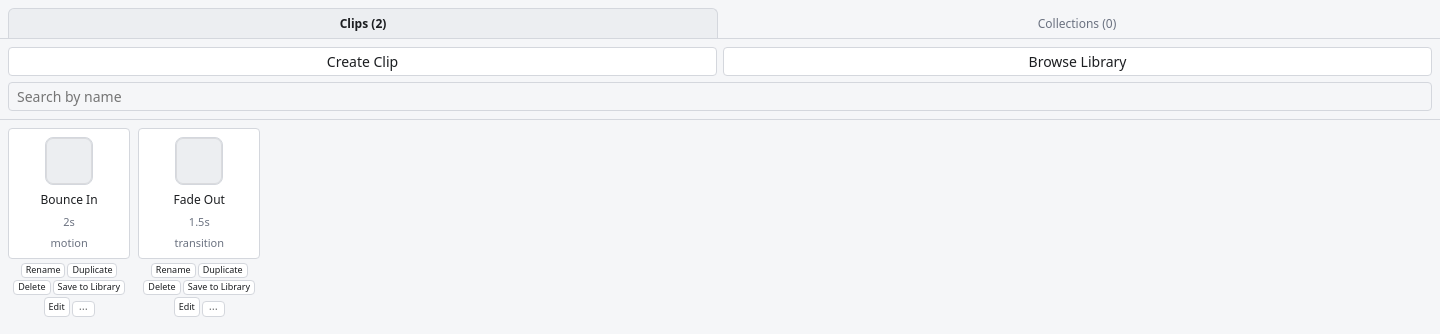
Test: AnimationsPanel › does not rename a clip to an empty name
Expected: the text "Bounce In" is shown, left=41, top=191, right=98, bottom=208
Click the button with aria-label "Rename Bounce In": x=43, y=270 left=21, top=263, right=66, bottom=278
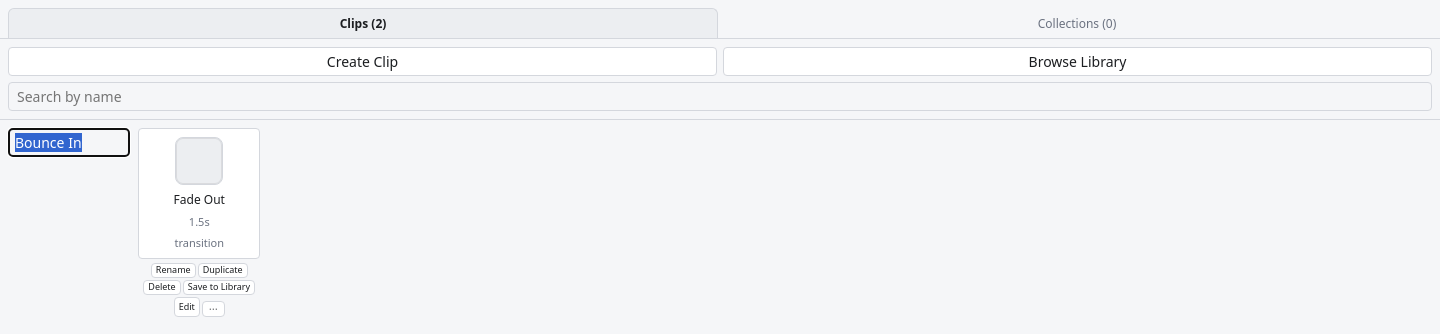
Clear the field named "Clip name": x=69, y=142 left=8, top=128, right=130, bottom=157
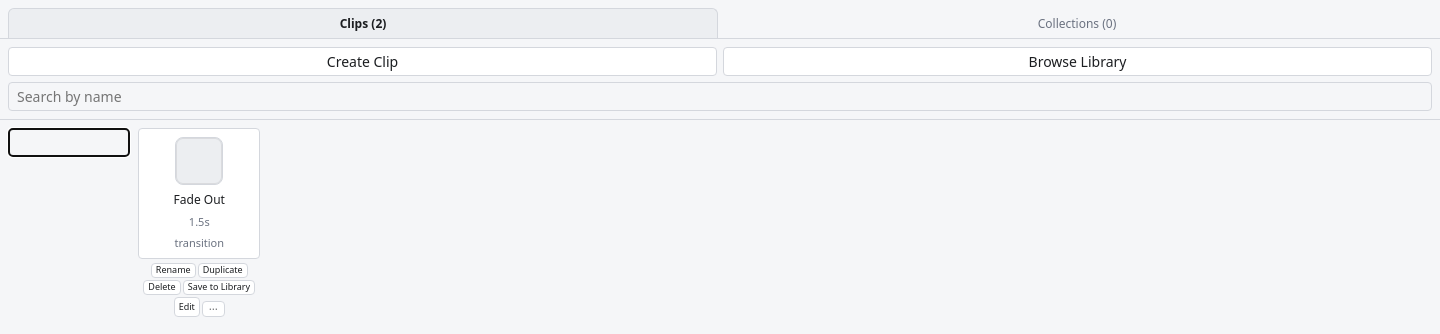
Press Enter
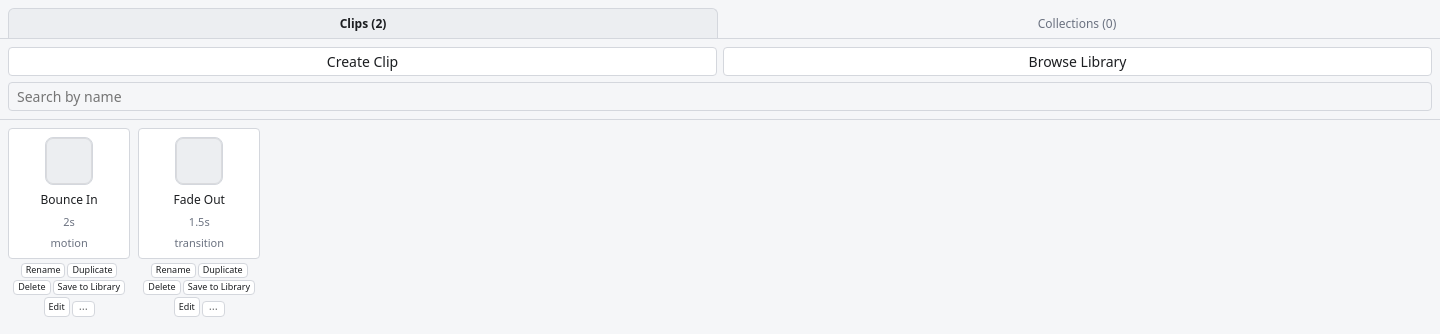
Expected: the text "Bounce In" is shown, left=41, top=191, right=98, bottom=208
